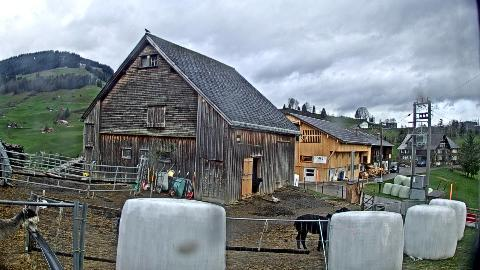car: (390, 165, 400, 173), (418, 161, 426, 167)
sheep: (0, 204, 40, 243), (295, 213, 335, 251), (250, 176, 264, 194), (336, 208, 350, 213)
